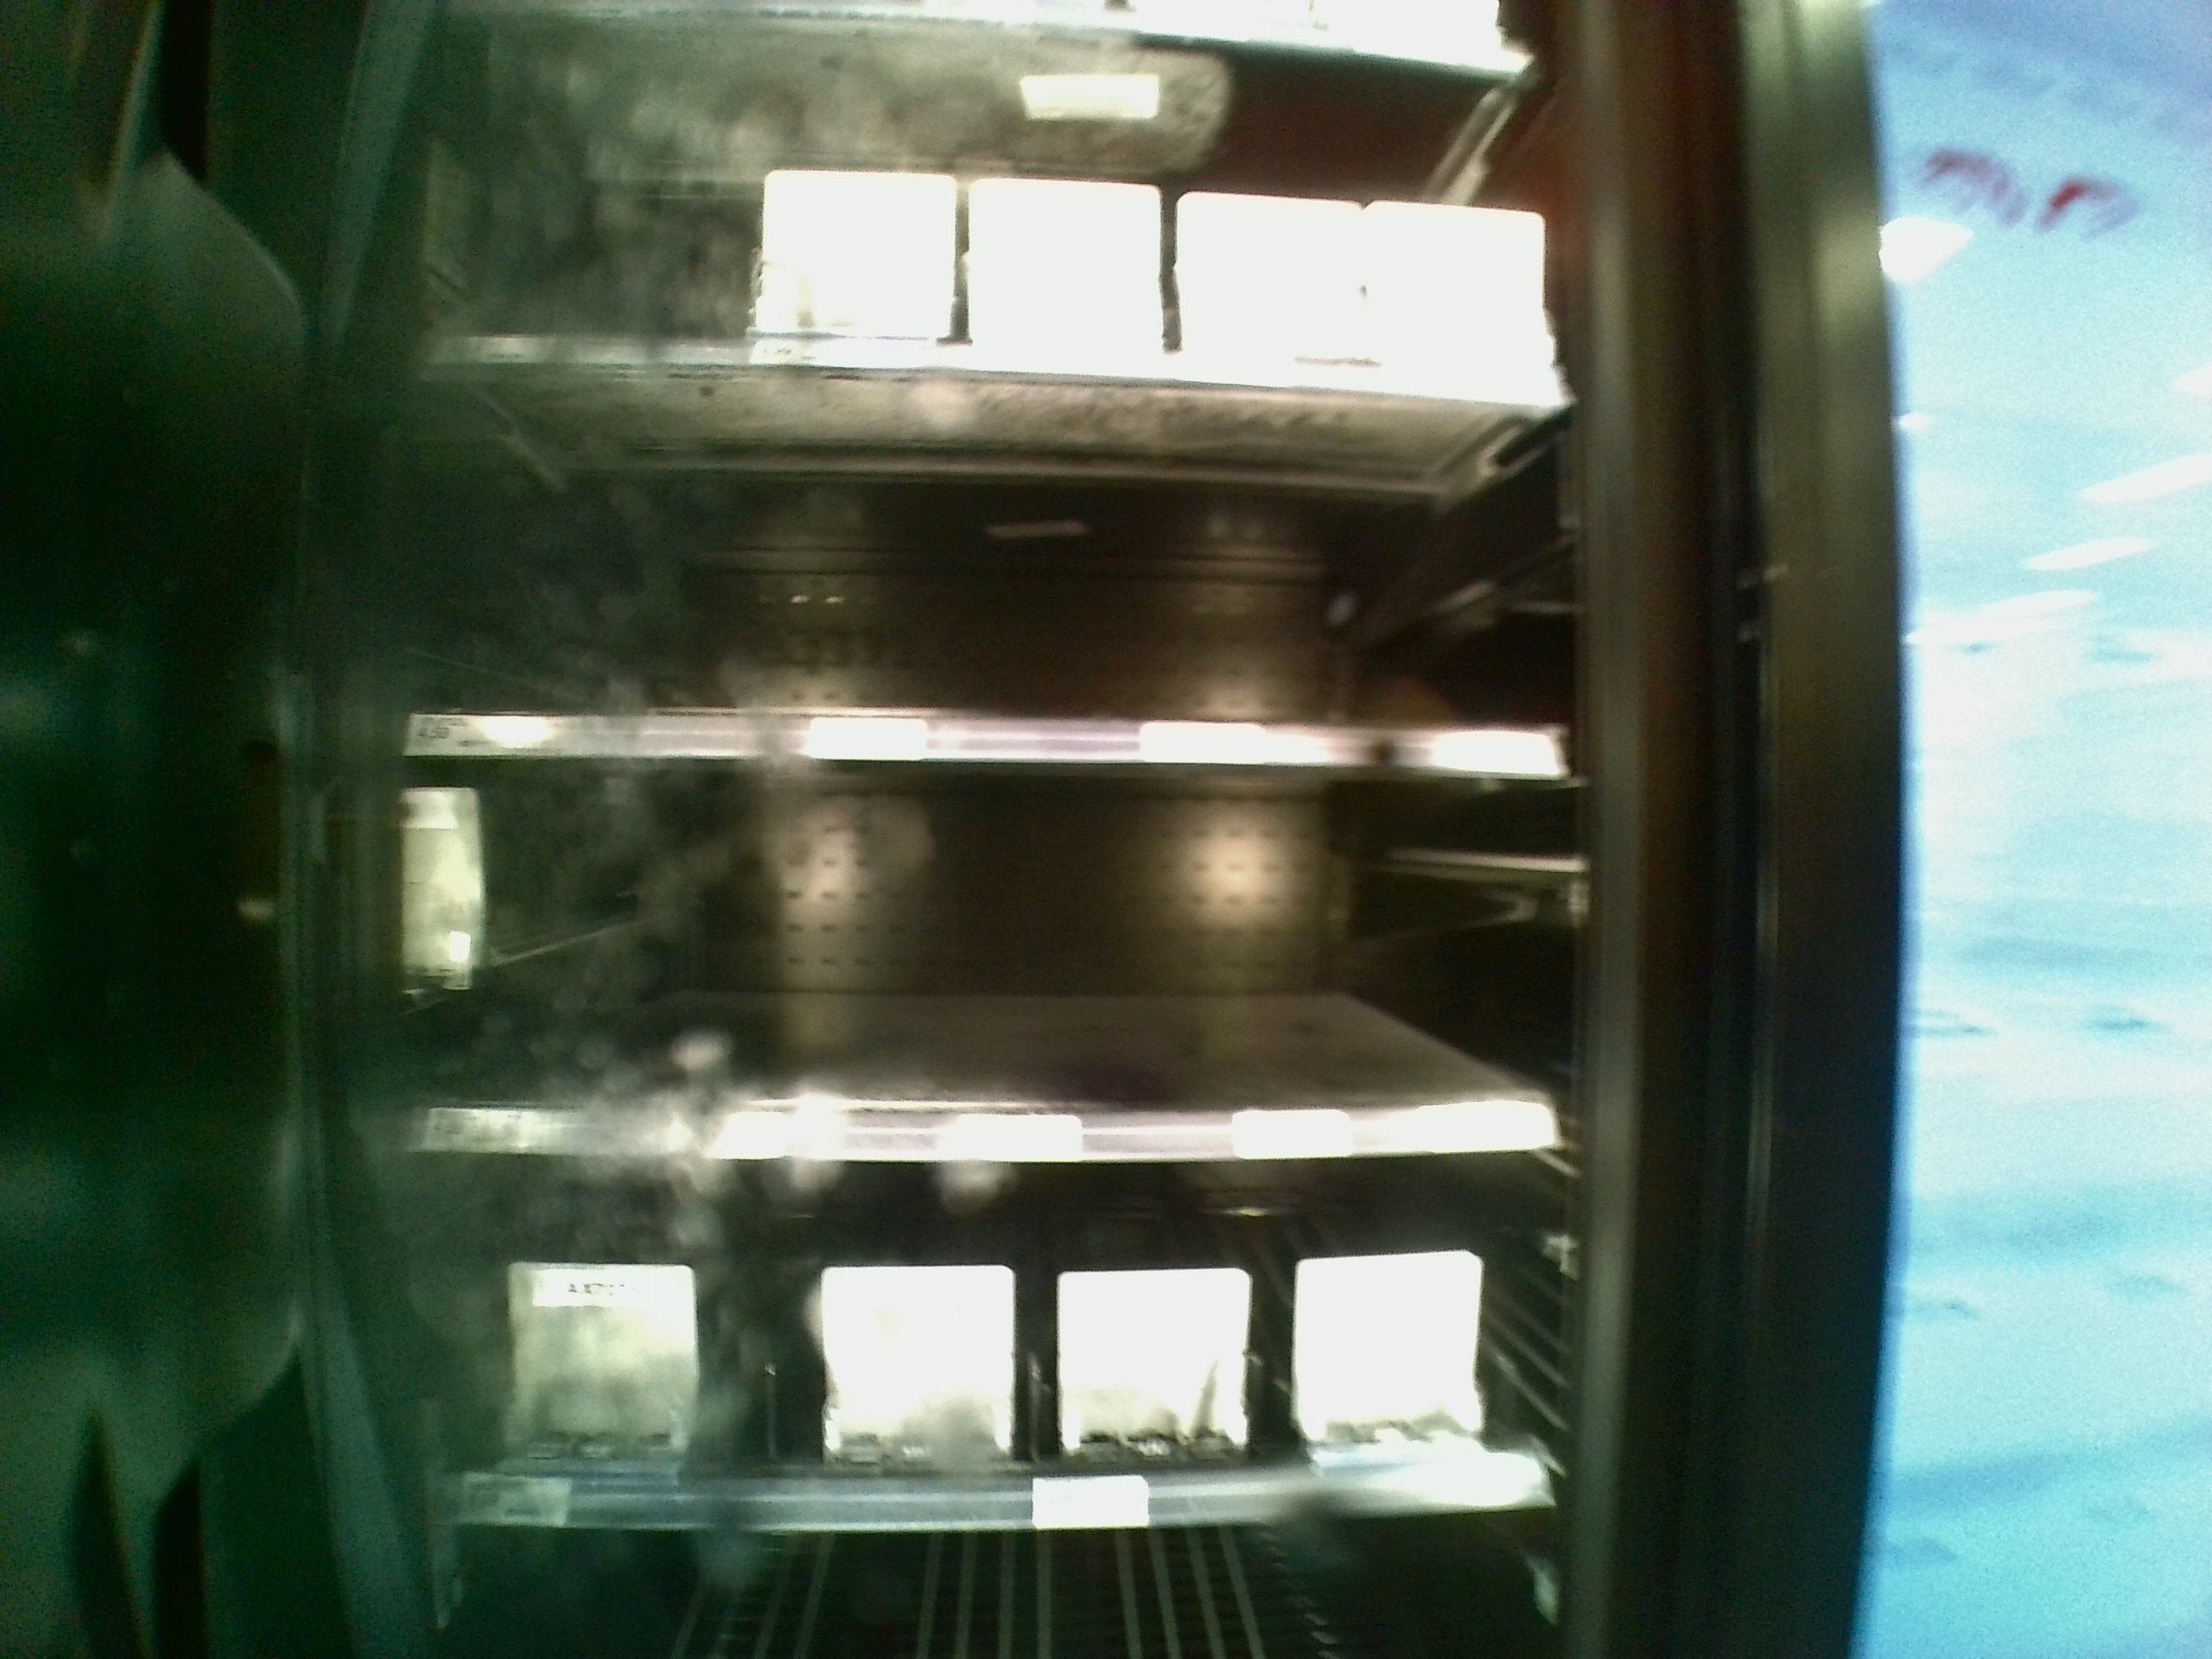shelf: (415, 343, 1571, 758), (402, 716, 1548, 1122), (420, 1127, 1550, 1506)
